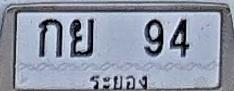4: (170, 18, 190, 57)
9: (144, 18, 163, 56)
A01: (38, 18, 63, 57)
A34: (70, 18, 94, 57)
RYG: (87, 70, 151, 91)
